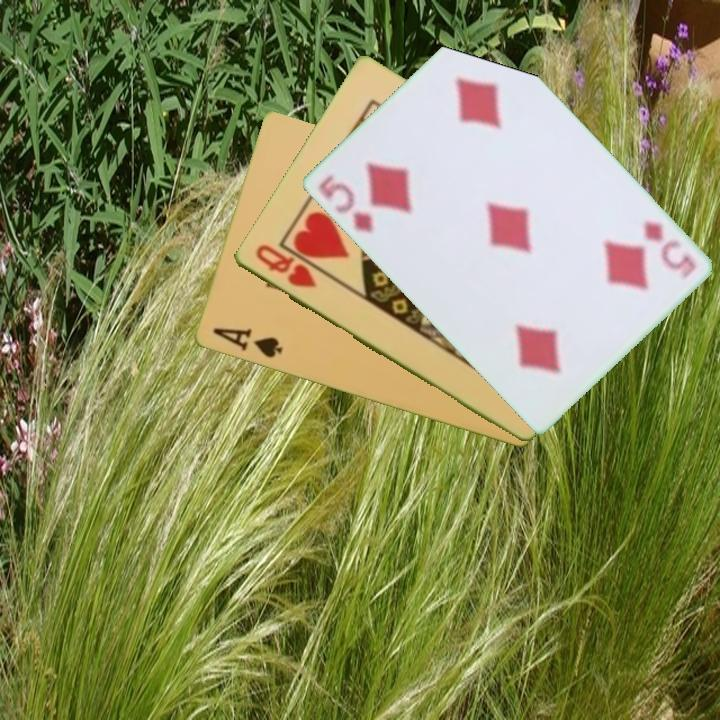5d: (314, 171, 376, 237), (639, 217, 699, 283)
As: (208, 324, 285, 361)
Qh: (251, 240, 319, 291)
